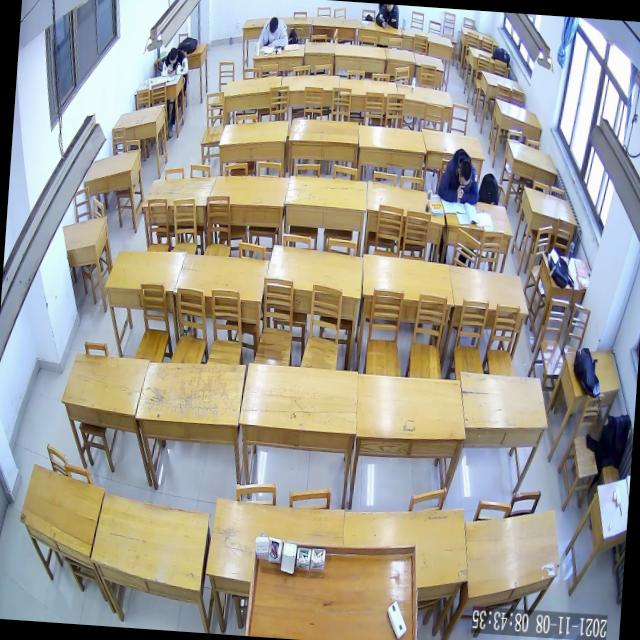bow: (436, 146, 482, 206), (258, 15, 290, 52), (160, 44, 190, 78)
down: (456, 158, 472, 186), (268, 16, 278, 36), (168, 46, 178, 65)
